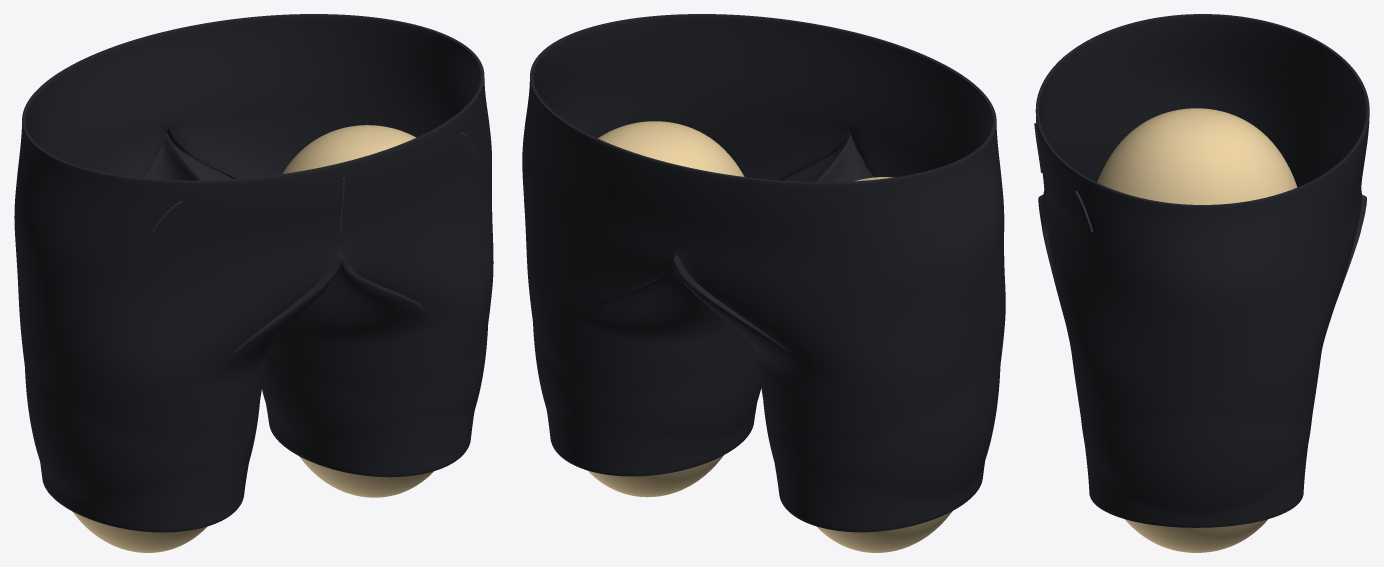
The model's file is Feminine-pants.glb.
3 views of the same model, side by side, from view 1: azimuth 30°, elevation 25°; view 2: azimuth 150°, elevation 25°; view 3: azimuth 270°, elevation 25° (orthographic). The views are drawn at different scales.
Visible parts, largest first — view 1: Bottom / continuous fitted pants, Skin / pants leg fit 1, Skin / pants leg fit -1; view 2: Bottom / continuous fitted pants, Skin / pants leg fit 1, Skin / pants leg fit -1; view 3: Bottom / continuous fitted pants, Skin / pants leg fit -1, Skin / pants leg fit 1.
Part boxes in pixels (x1=…): Bottom / continuous fitted pants: x1=14, y1=14, x2=493, y2=532; Skin / pants leg fit 1: x1=282, y1=125, x2=433, y2=497; Skin / pants leg fit -1: x1=72, y1=511, x2=206, y2=552; Bottom / continuous fitted pants: x1=522, y1=14, x2=1005, y2=532; Skin / pants leg fit 1: x1=587, y1=121, x2=744, y2=497; Skin / pants leg fit -1: x1=816, y1=177, x2=952, y2=552; Bottom / continuous fitted pants: x1=1035, y1=14, x2=1369, y2=527; Skin / pants leg fit -1: x1=1097, y1=108, x2=1297, y2=204; Skin / pants leg fit 1: x1=1124, y1=519, x2=1268, y2=552.
Size of the model in its own units: 0.6137 by 0.546 by 0.4319.
